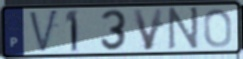1: (64, 9, 80, 54)
3: (99, 9, 129, 53)
N: (166, 6, 200, 52)
O: (202, 7, 233, 49)
V: (27, 8, 61, 55), (131, 7, 166, 52)
